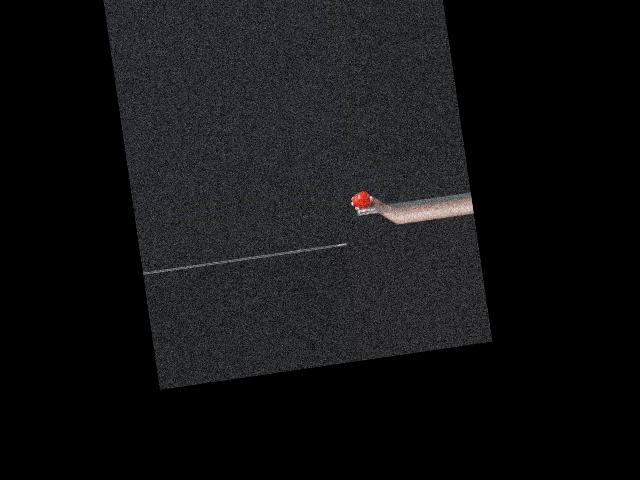tomato: (351, 190, 371, 210)
